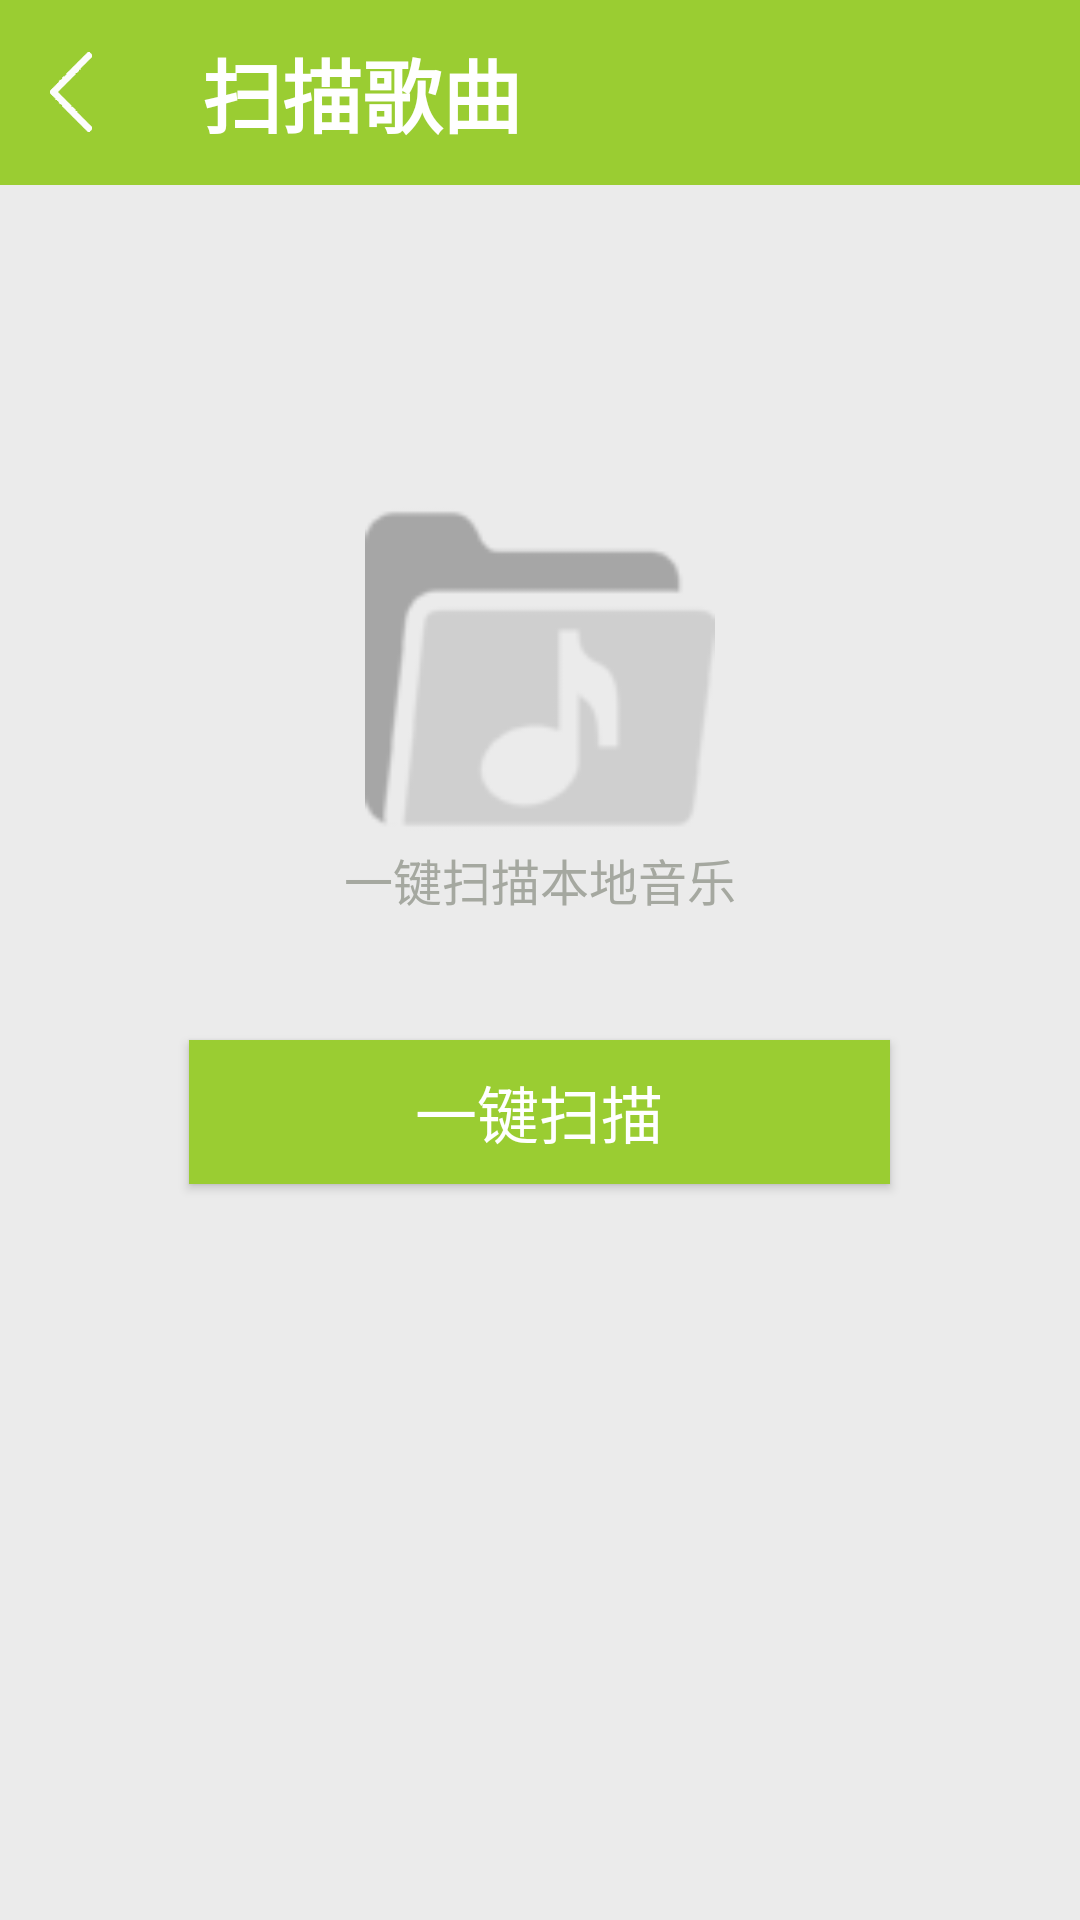

Where icons sit on this 1080x1920 app screen, as bbox=[x1, y1, x2, y2]:
back: bbox=[50, 52, 92, 132]
